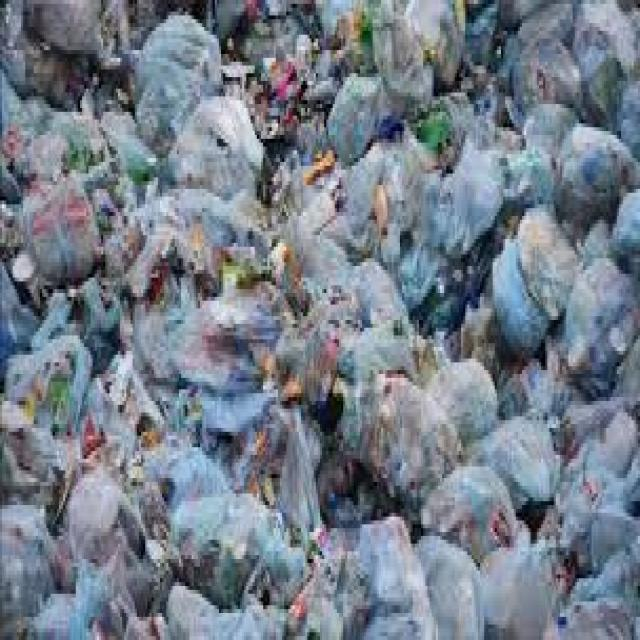heap: (68, 66, 624, 640)
